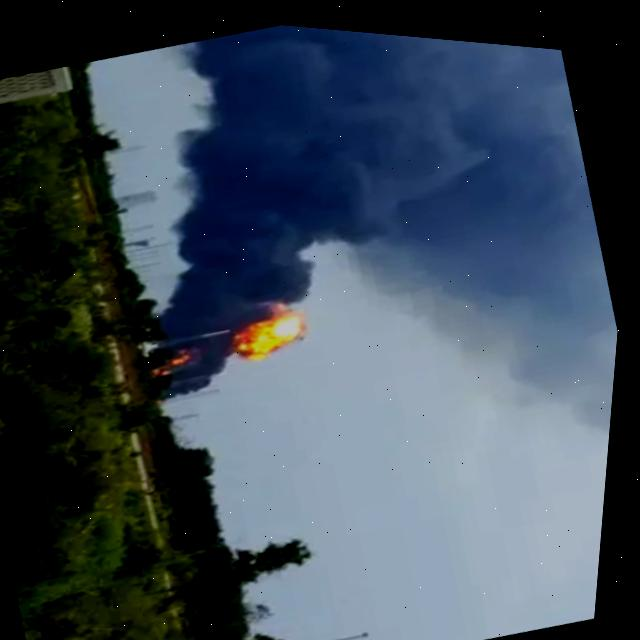Smoke: (64, 7, 640, 510)
